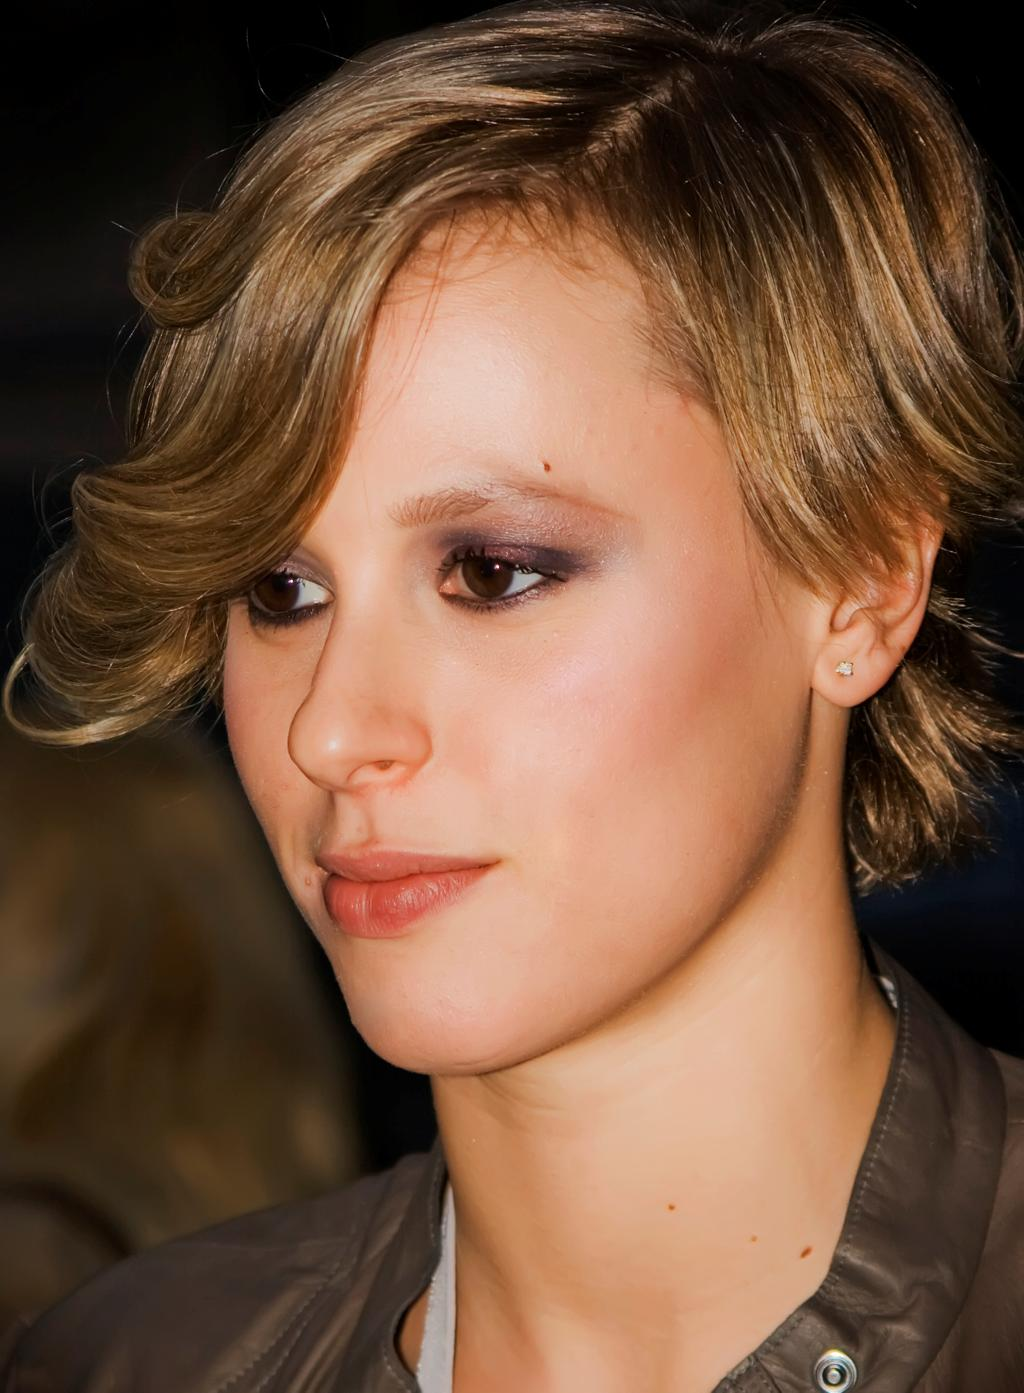face: (225, 405, 736, 1076)
